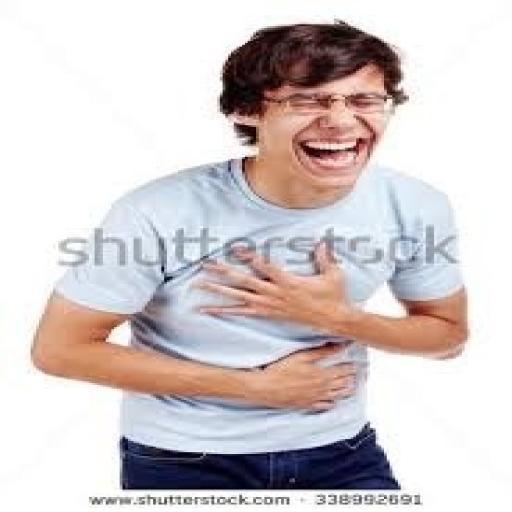laughing: (25, 16, 476, 490)
